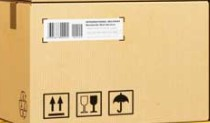stock: (1, 1, 210, 121)
